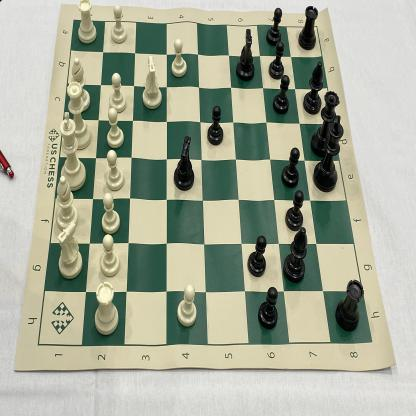black-bishop: (335, 279, 365, 331), (283, 228, 307, 282), (303, 61, 322, 115), (299, 4, 319, 50)
black-king: (313, 114, 343, 193)
black-knight: (174, 135, 196, 191), (236, 26, 255, 82)
black-pawn: (258, 286, 279, 330), (247, 234, 268, 278), (284, 191, 305, 232), (282, 145, 301, 189), (206, 103, 225, 144), (273, 74, 291, 115), (269, 41, 286, 80), (266, 7, 283, 45)
black-queen: (312, 90, 341, 158)
white-bishop: (55, 177, 79, 232), (70, 57, 91, 112)
white-king: (59, 111, 87, 192)
white-knight: (55, 222, 84, 279), (143, 54, 162, 109)
white-pawn: (97, 235, 121, 278), (97, 193, 121, 236), (102, 149, 126, 191), (177, 286, 198, 331), (105, 109, 125, 149), (108, 72, 127, 113), (110, 3, 128, 45), (170, 38, 187, 79)
white-queen: (66, 80, 92, 151)
white-rook: (94, 282, 119, 337), (77, 0, 97, 43)
